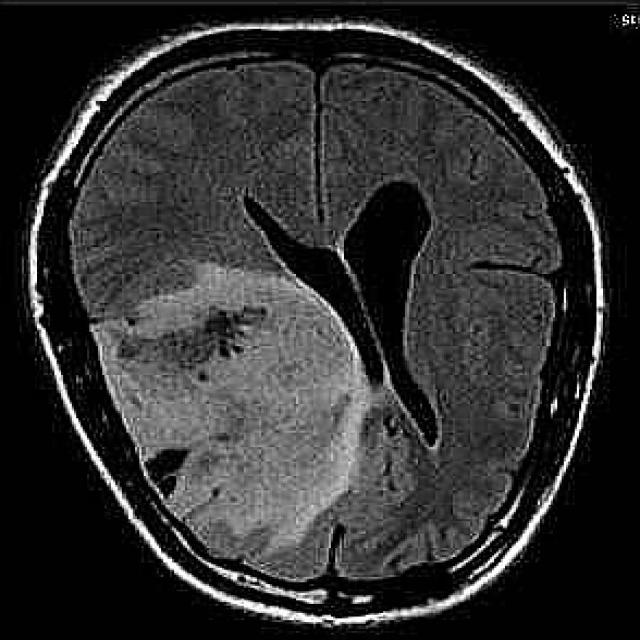Tumor-Cell: (110, 267, 394, 543)
